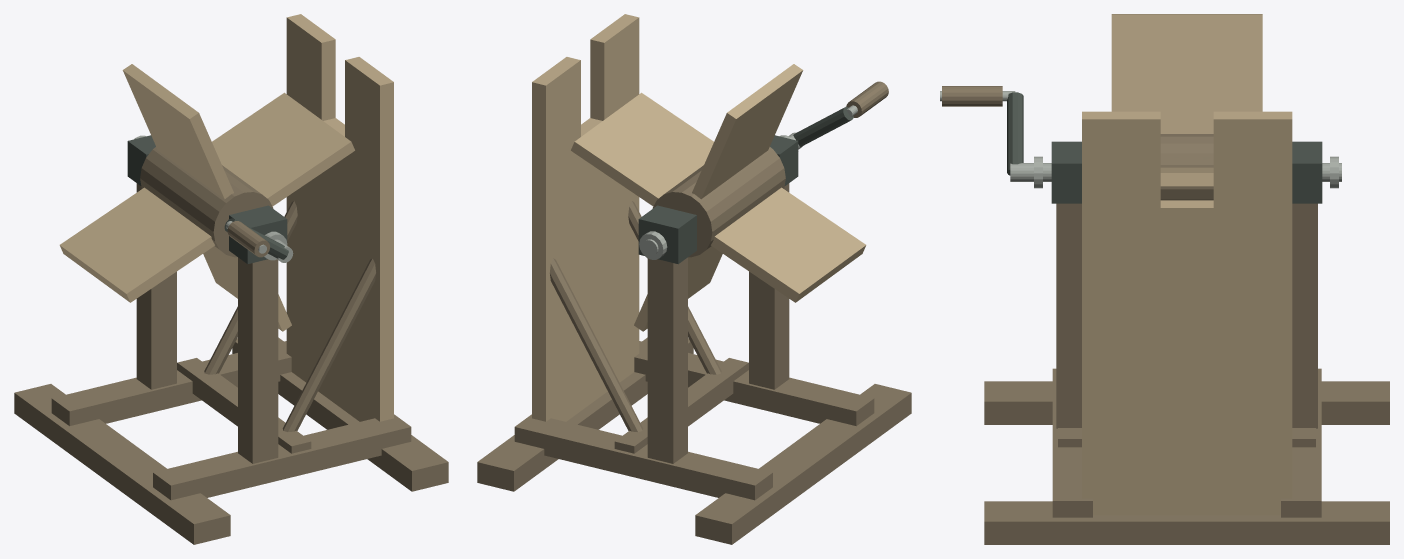
The picture shows the model from 3 angles, left to right: view 1: azimuth 30°, elevation 25°; view 2: azimuth 150°, elevation 25°; view 3: azimuth 270°, elevation 25°; orthographic projection. The views are drawn at different scales.
Parts seen in each view (by area): view 1: WholeTallUNotchedSideBoard, WholeBroadRadialWoodPaddle2, WholeLongGroundSkid0, WholeBroadRadialWoodPaddle0, WholeLowCrossBearer0, WholeUprightShaftPost0, WholeBroadRadialWoodPaddle1, WholeLowCrossBearer1, WholeLongFourPaddleHub, WholeLongGroundSkid1, WholeUprightShaftPost1, WholeSideBoardDiagonalBrace0 (+6 smaller); view 2: WholeTallUNotchedSideBoard, WholeBroadRadialWoodPaddle2, WholeLongGroundSkid0, WholeBroadRadialWoodPaddle0, WholeLowCrossBearer1, WholeUprightShaftPost1, WholeBroadRadialWoodPaddle1, WholeLowCrossBearer0, WholeLongFourPaddleHub, WholeLongGroundSkid1, WholeUprightShaftPost0, WholeSideBoardDiagonalBrace1 (+7 smaller); view 3: WholeTallUNotchedSideBoard, WholeBroadRadialWoodPaddle1, WholeLongGroundSkid1, WholeLongGroundSkid0, WholeUprightShaftPost0, WholeUprightShaftPost1, WholeLowCrossBearer0, WholeLowCrossBearer1, WholeLongFourPaddleHub, WholeShaftBearingBlock0, WholeShaftBearingBlock1, WholeWoodenHandCrankGrip (+4 smaller).
Part boxes in pixels (x1,y1,x2,y2): WholeTallUNotchedSideBoard: [286, 14, 393, 421]; WholeBroadRadialWoodPaddle2: [59, 187, 214, 302]; WholeLongGroundSkid0: [14, 384, 230, 544]; WholeBroadRadialWoodPaddle0: [212, 92, 354, 206]; WholeLowCrossBearer0: [153, 414, 411, 500]; WholeUprightShaftPost0: [238, 257, 278, 463]; WholeBroadRadialWoodPaddle1: [122, 64, 233, 199]; WholeLowCrossBearer1: [51, 341, 291, 426]; WholeLongFourPaddleHub: [140, 147, 273, 257]; WholeLongGroundSkid1: [232, 337, 448, 491]; WholeUprightShaftPost1: [136, 183, 176, 389]; WholeSideBoardDiagonalBrace0: [282, 258, 375, 431]; WholeTallUNotchedSideBoard: [532, 14, 639, 421]; WholeBroadRadialWoodPaddle2: [711, 187, 866, 302]; WholeLongGroundSkid0: [695, 384, 911, 544]; WholeBroadRadialWoodPaddle0: [571, 92, 713, 206]; WholeLowCrossBearer1: [514, 414, 772, 500]; WholeUprightShaftPost1: [647, 257, 687, 463]; WholeBroadRadialWoodPaddle1: [692, 64, 803, 199]; WholeLowCrossBearer0: [634, 341, 874, 426]; WholeLongFourPaddleHub: [652, 147, 785, 257]; WholeLongGroundSkid1: [477, 337, 693, 491]; WholeUprightShaftPost0: [749, 183, 789, 389]; WholeSideBoardDiagonalBrace1: [550, 258, 643, 431]; WholeTallUNotchedSideBoard: [1082, 111, 1292, 515]; WholeBroadRadialWoodPaddle1: [1111, 14, 1262, 133]; WholeLongGroundSkid1: [984, 501, 1389, 544]; WholeLongGroundSkid0: [984, 381, 1389, 424]; WholeUprightShaftPost0: [1056, 203, 1081, 428]; WholeUprightShaftPost1: [1292, 203, 1317, 428]; WholeLowCrossBearer0: [1052, 368, 1092, 517]; WholeLowCrossBearer1: [1281, 368, 1321, 517]; WholeLongFourPaddleHub: [1160, 134, 1213, 200]; WholeShaftBearingBlock0: [1051, 141, 1081, 203]; WholeShaftBearingBlock1: [1292, 141, 1322, 203]; WholeWoodenHandCrankGrip: [942, 86, 1002, 106].
Size of the model in its own units: 0.9392 by 1.27 by 1.22.
